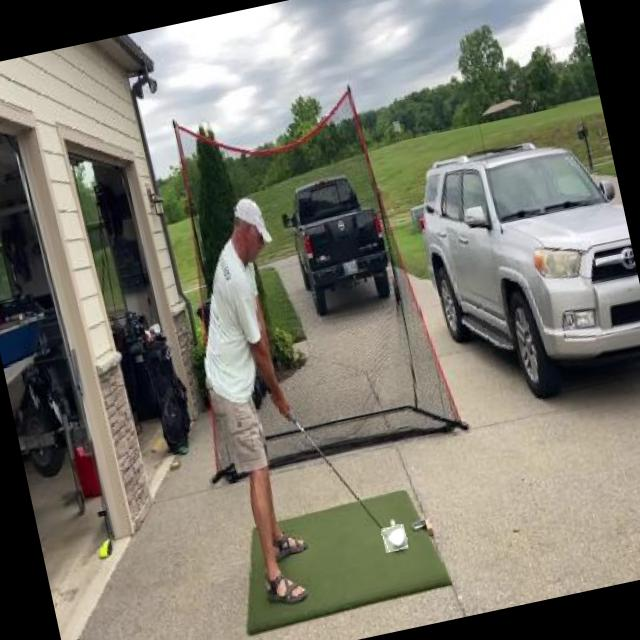club head: (381, 524, 408, 552)
